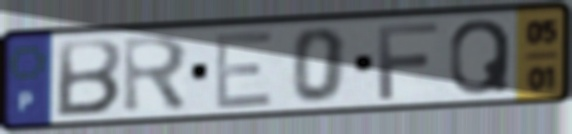0: (288, 25, 348, 107)
B: (52, 36, 125, 118)
E: (212, 27, 276, 112)
F: (374, 19, 441, 102)
Q: (447, 16, 514, 98)
R: (120, 32, 192, 117)
